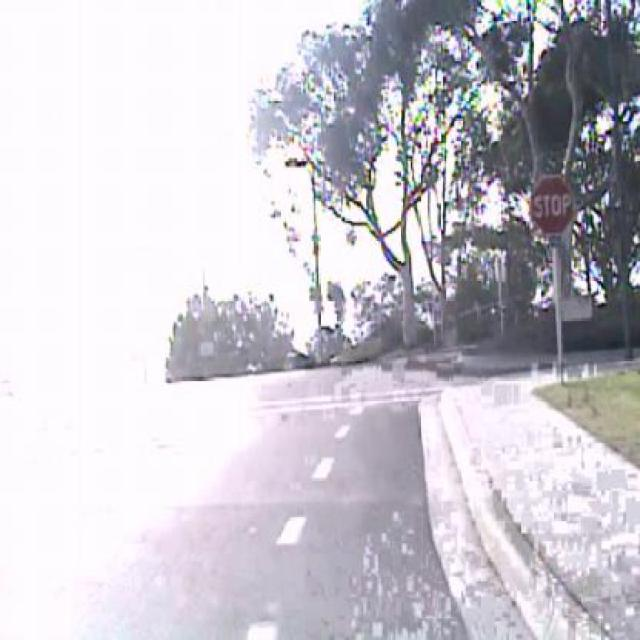stop: (529, 174, 573, 235)
